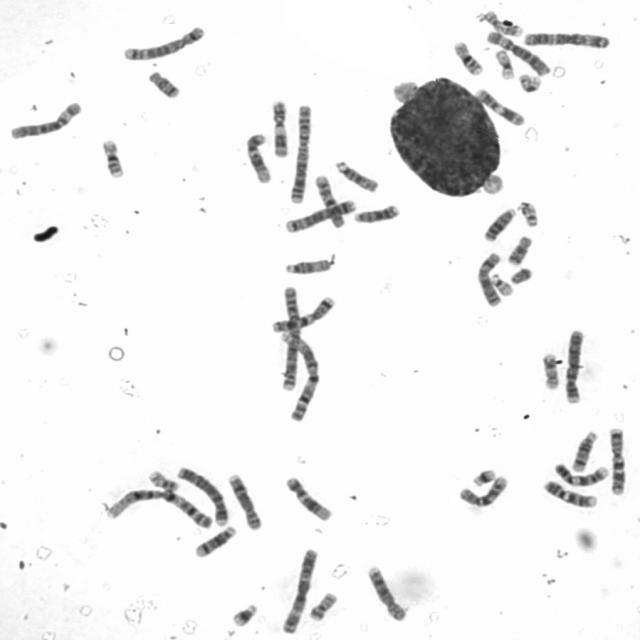A1: (103, 485, 215, 529), (277, 330, 322, 422)
A2: (287, 100, 315, 206), (277, 281, 303, 393)
A3: (279, 544, 320, 634), (520, 28, 612, 50)
B4: (174, 462, 230, 528), (562, 327, 587, 404)
B5: (119, 22, 206, 62), (283, 196, 358, 234)
C10: (312, 171, 347, 230), (456, 472, 511, 509)
C11: (472, 85, 528, 127), (269, 96, 291, 160)
C12: (282, 473, 334, 523), (244, 130, 274, 184)
C6: (483, 27, 551, 76), (5, 98, 83, 140)
C7: (268, 292, 338, 334), (606, 424, 628, 496)
C8: (364, 560, 410, 622), (224, 470, 264, 531)
C9: (539, 476, 599, 510), (550, 460, 611, 488)
D13: (481, 204, 519, 242), (350, 201, 401, 224)
D14: (192, 524, 238, 558), (568, 429, 599, 472)
D15: (332, 157, 381, 194), (281, 253, 336, 276)
E16: (452, 40, 486, 78), (98, 136, 126, 180)
E17: (483, 10, 524, 38), (539, 349, 560, 391)
E18: (144, 67, 183, 99), (504, 232, 534, 266)
F19: (491, 45, 517, 81), (516, 71, 543, 93)
F20: (306, 589, 339, 622), (145, 465, 180, 492)
G21: (227, 598, 261, 628), (468, 464, 498, 488)
G22: (516, 198, 540, 228), (489, 271, 515, 297)
X: (475, 249, 504, 308)
Y: (507, 264, 534, 284)
